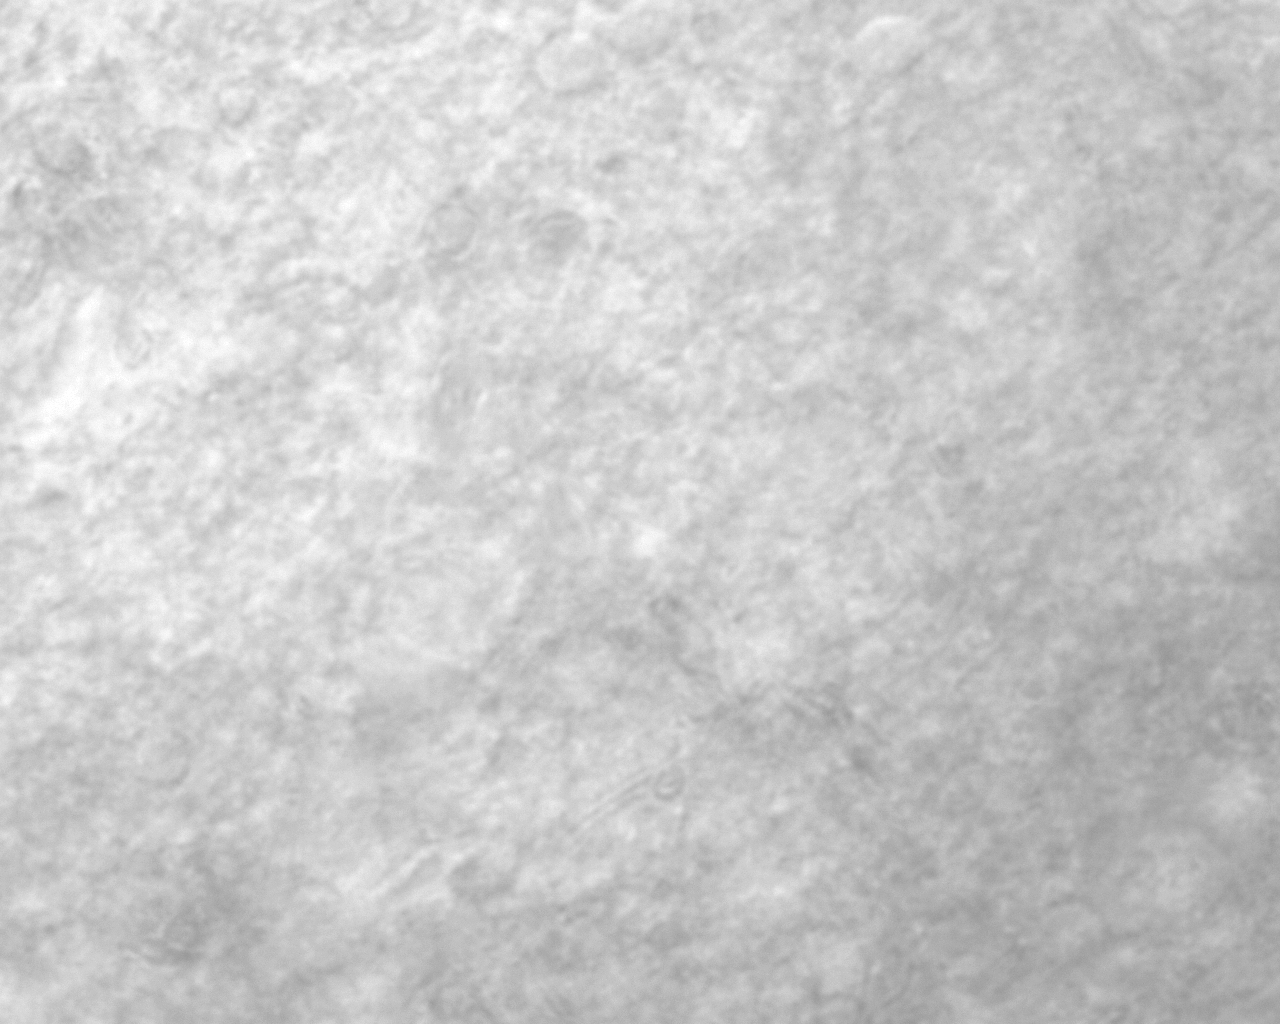neuron: (348, 523, 554, 691)
